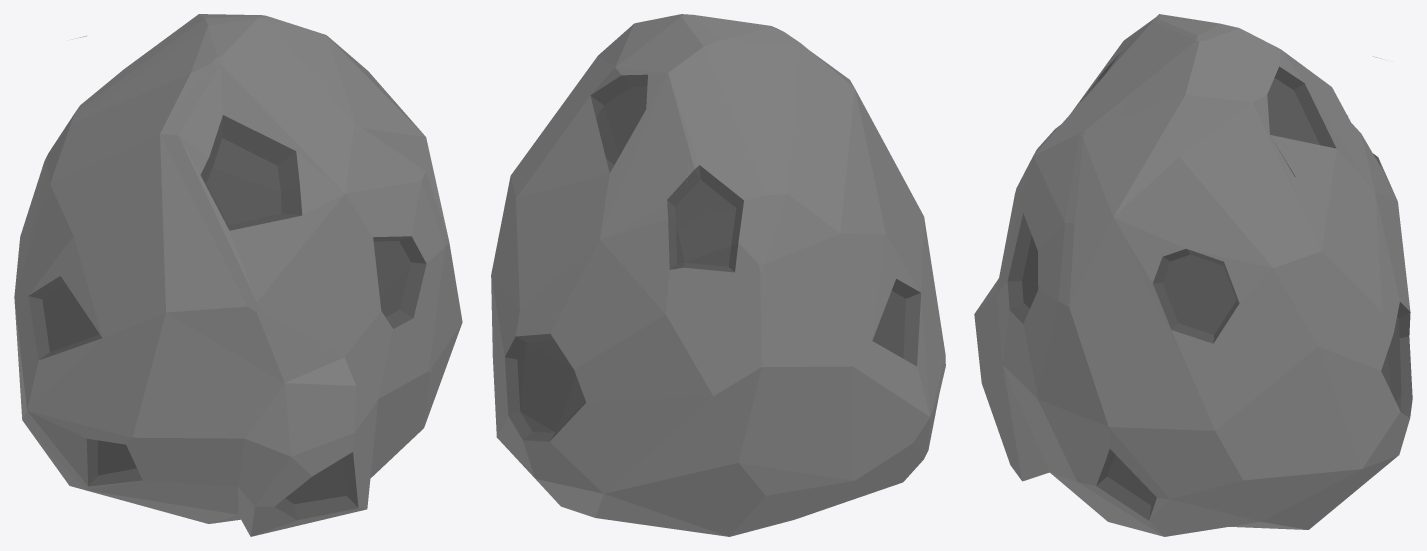
File: mining_PP_Rock_Gem_03_Mined.gltf
3 views of the same model, side by side, from view 1: azimuth 30°, elevation 25°; view 2: azimuth 150°, elevation 25°; view 3: azimuth 270°, elevation 25° (orthographic). The views are drawn at different scales.
Visible parts, largest first — view 1: PP_Rock_Gem_03_Mined; view 2: PP_Rock_Gem_03_Mined; view 3: PP_Rock_Gem_03_Mined.
Boxes of the visible parts, left/top/right/bottom form: PP_Rock_Gem_03_Mined: left=14, top=14, right=462, bottom=536; PP_Rock_Gem_03_Mined: left=491, top=14, right=945, bottom=536; PP_Rock_Gem_03_Mined: left=974, top=14, right=1412, bottom=536.
Bounding box in the file's own units: 1.73 × 1.88 × 1.6.
1 material, 1 textured.
